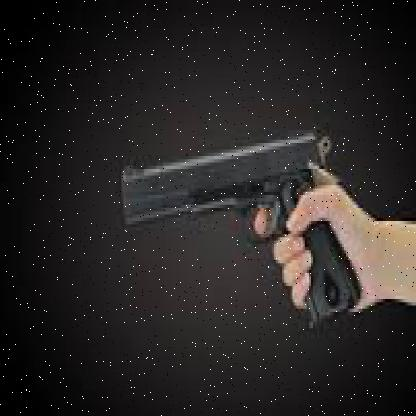pistol: (122, 104, 359, 318)
